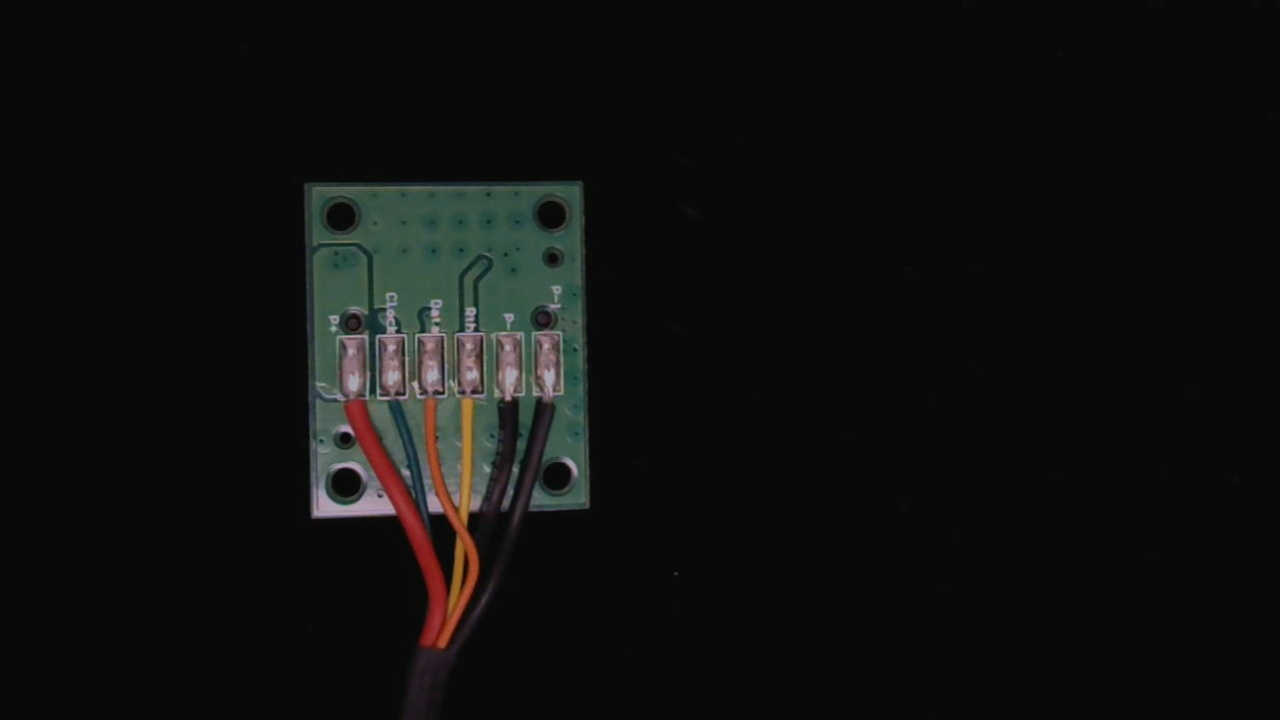Black: (490, 376, 525, 450)
Black1: (532, 378, 565, 446)
Green: (377, 377, 410, 434)
Orange: (416, 378, 448, 442)
Red: (339, 374, 374, 445)
Yellow: (451, 378, 486, 453)
